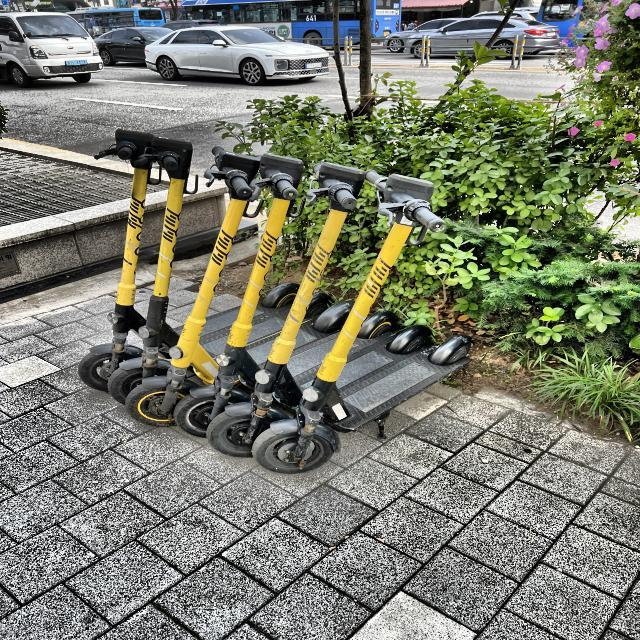bike: (79, 131, 472, 473)
car: (144, 25, 331, 86), (0, 11, 104, 88), (403, 12, 561, 60), (93, 26, 175, 67), (385, 18, 465, 55)
